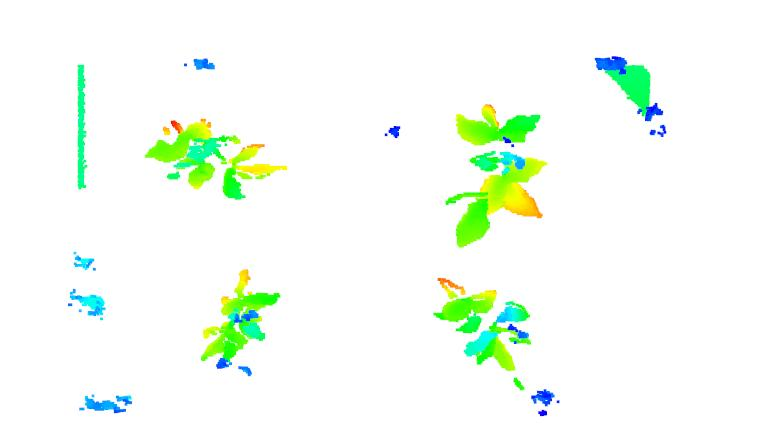mungbean: (447, 100, 547, 251), (421, 264, 534, 389), (144, 117, 290, 209), (198, 271, 282, 365)
